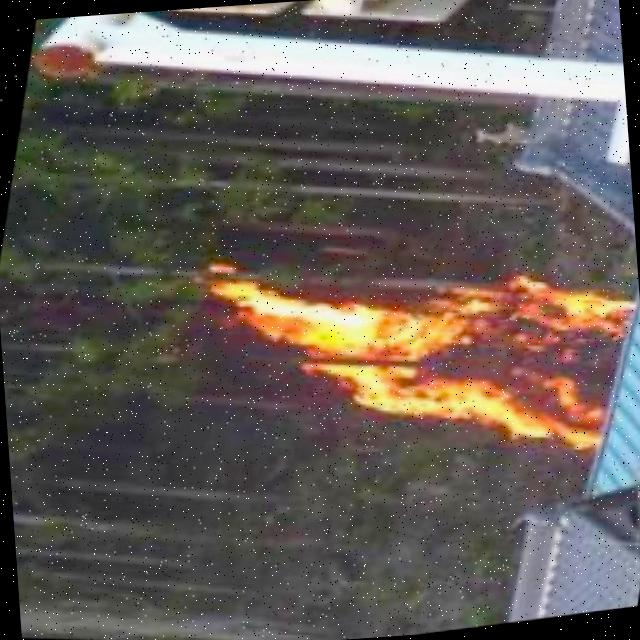fire: (163, 218, 619, 482)
